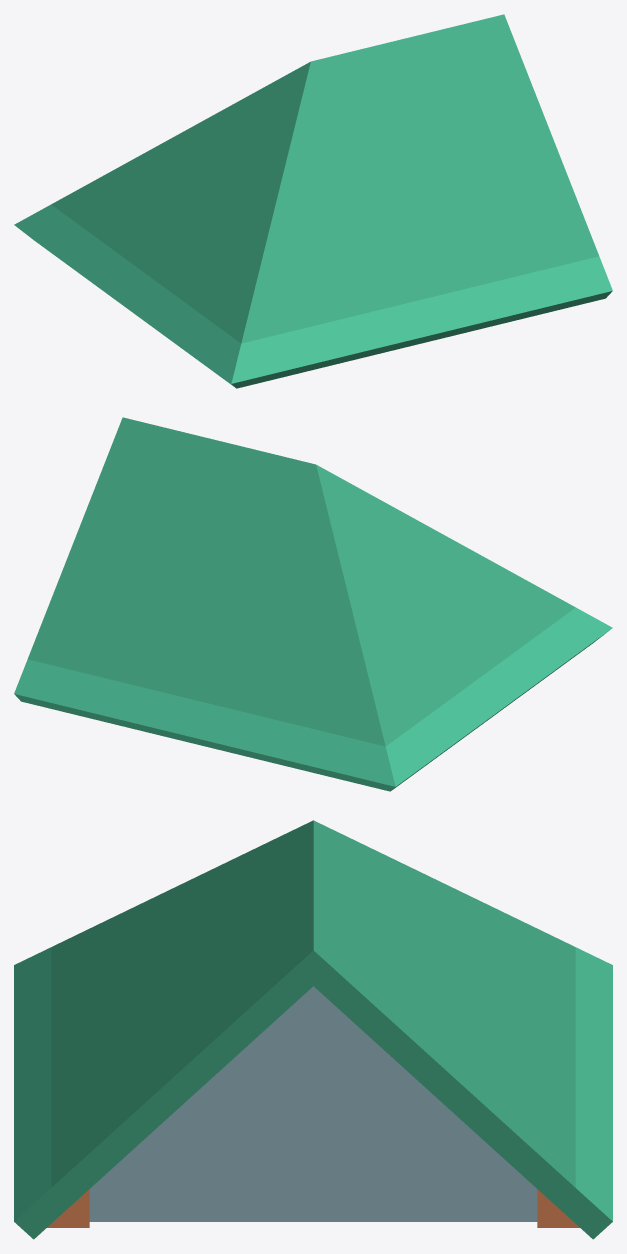
File: roofGableEnd.fbx
3 renders of one model, top to bottom at view 1: azimuth 30°, elevation 25°; view 2: azimuth 150°, elevation 25°; view 3: azimuth 270°, elevation 25°, orthographic. The views are drawn at different scales.
Visible parts, largest first — view 1: roofGableEnd; view 2: roofGableEnd; view 3: roofGableEnd.
Boxes of the visible parts, x1,y1,x2,y2 form: roofGableEnd: [14, 14, 612, 388]; roofGableEnd: [14, 417, 612, 791]; roofGableEnd: [14, 820, 612, 1239].
Size of the model in its own units: 10.85 by 5.71 by 10.71.
